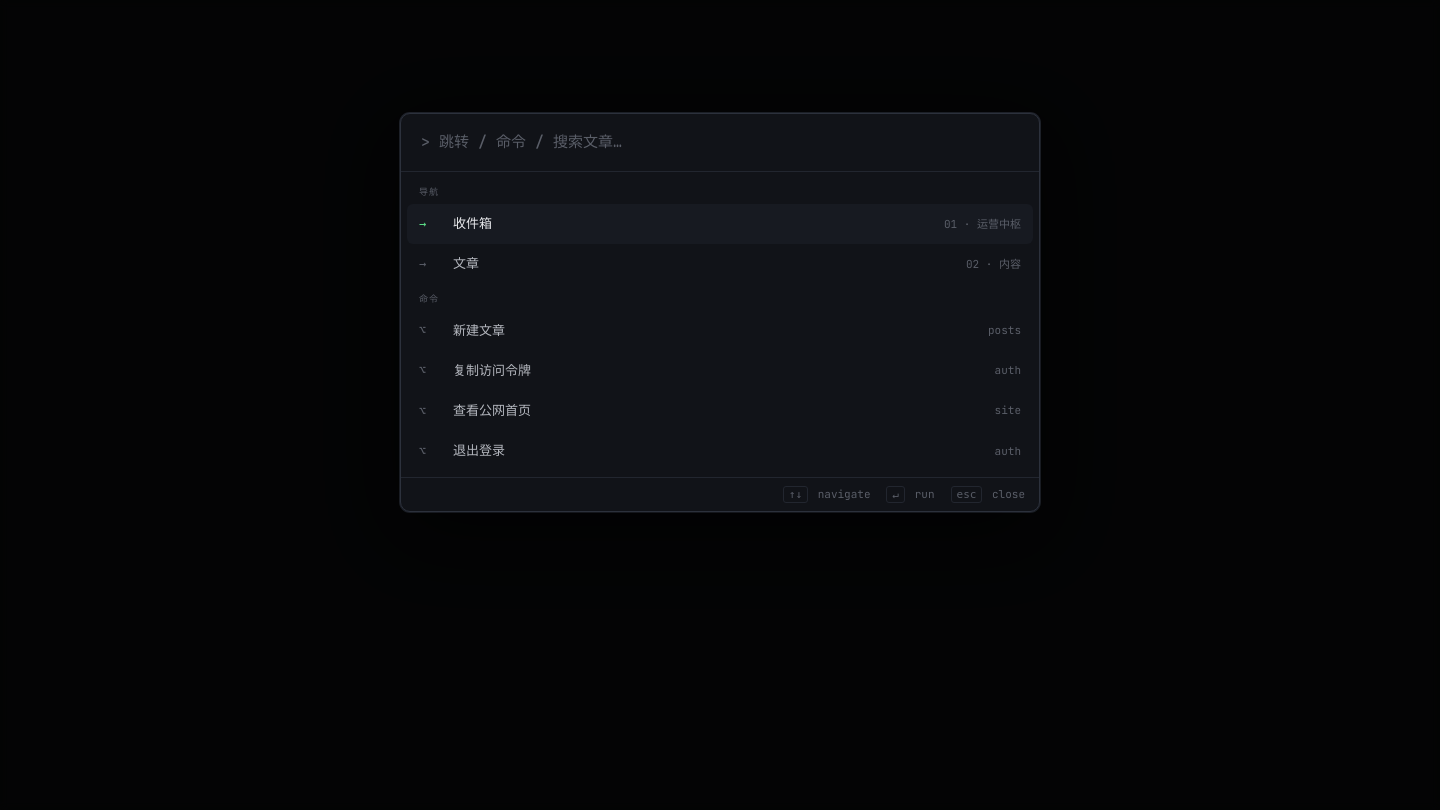
Test: CommandPalette › shows empty placeholder when nothing matches
Type "zzznever" into the field with test id "palette-input". click: (720,143)
box: [401,114,1039,172]
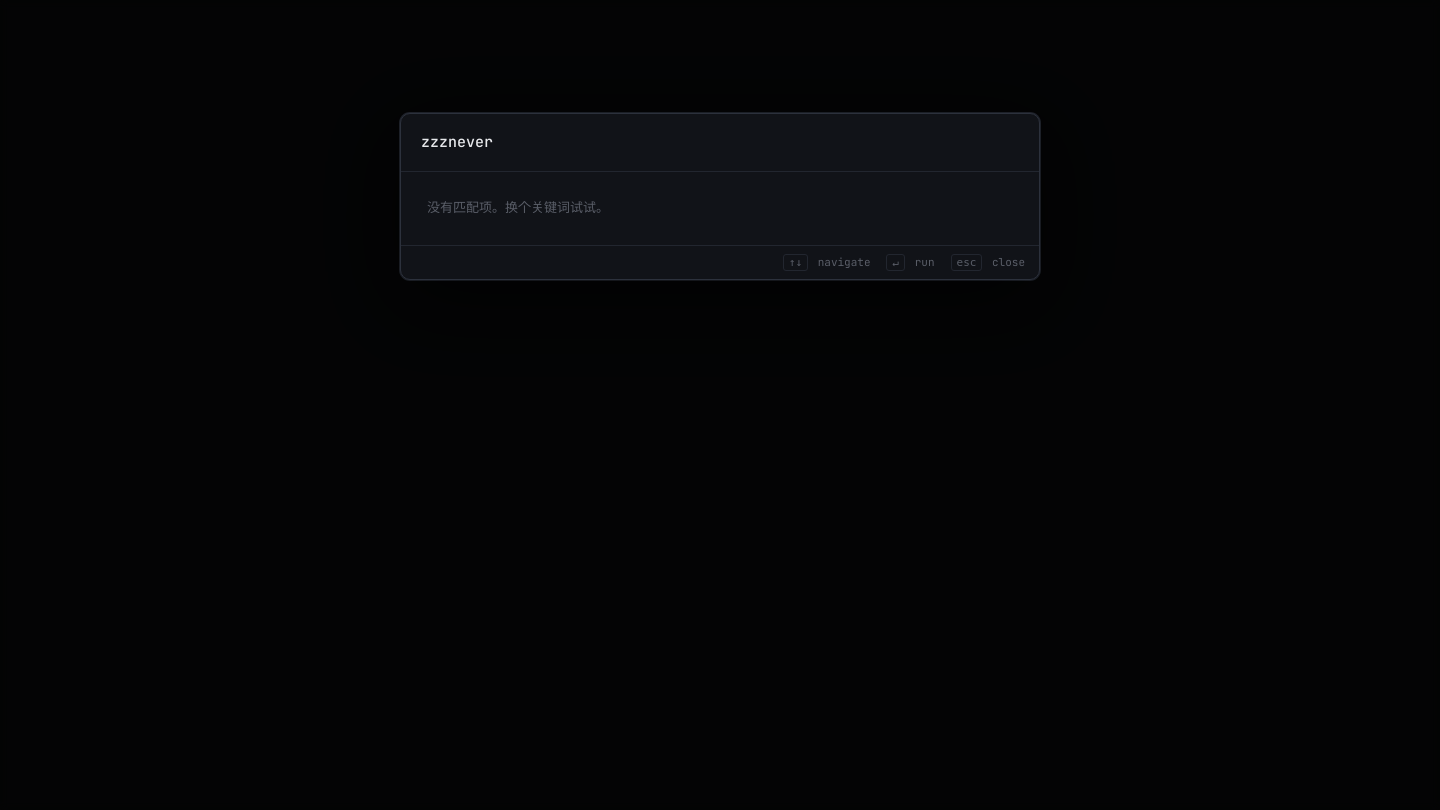
Now the text "没有匹配项。换个关键词试试。" is shown, box [427,199,609,216]
